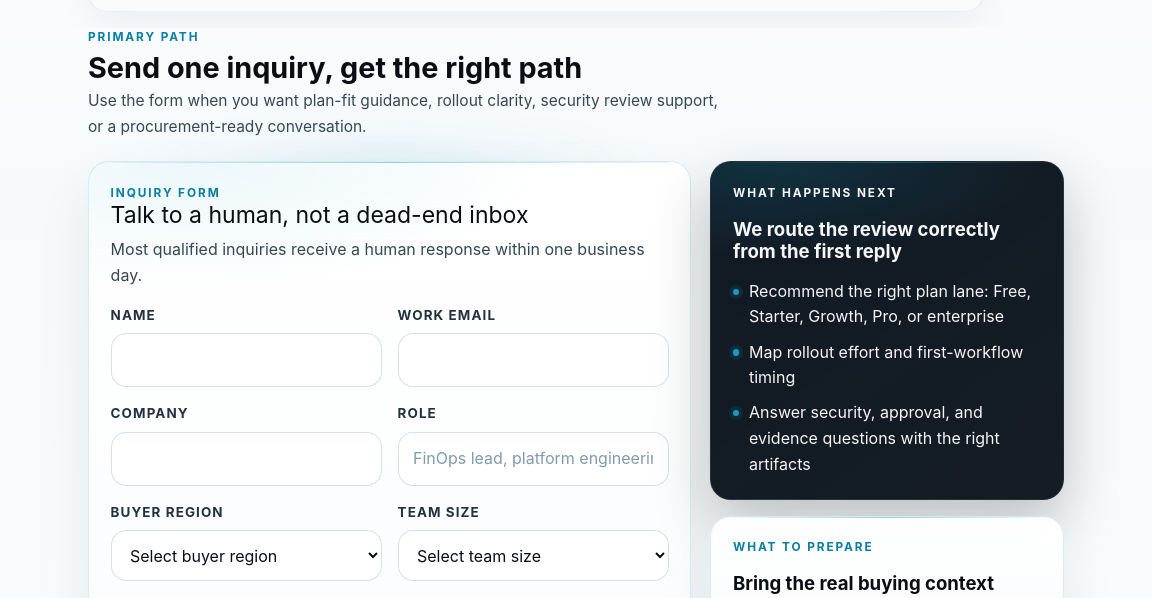
Test: talk-to-sales page › submits inquiries and shows inline success state
(page scrolled)
In the field labelled "Name": (246, 360) [111,333,382,387], type "Buyer One"
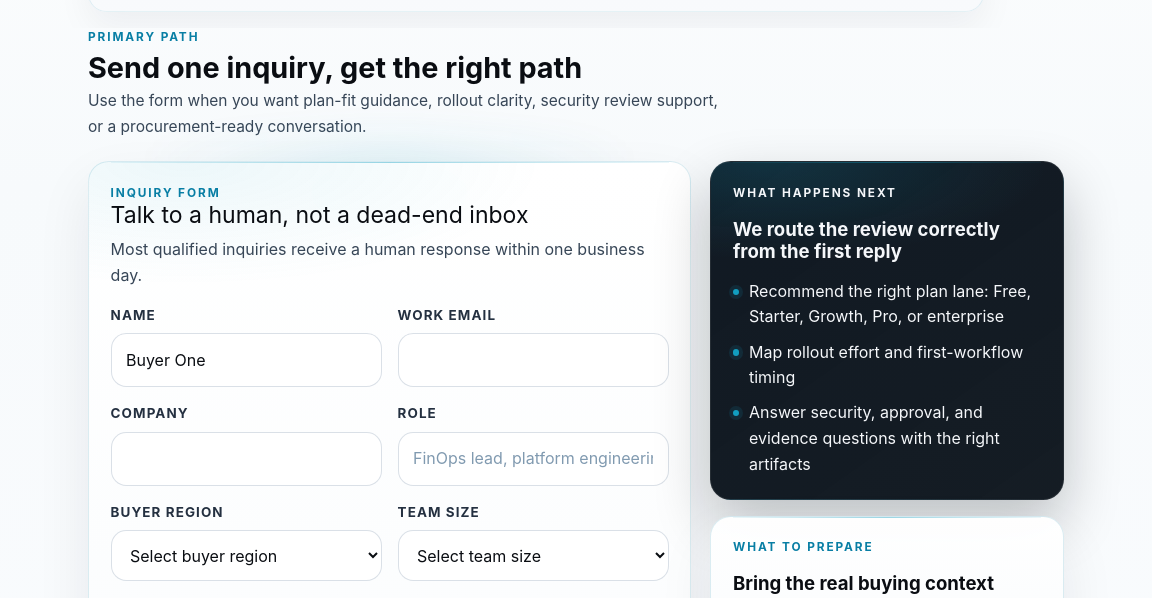
In the field labelled "Work email": (533, 360) [398,333,669,387], type "buyer@example.com"
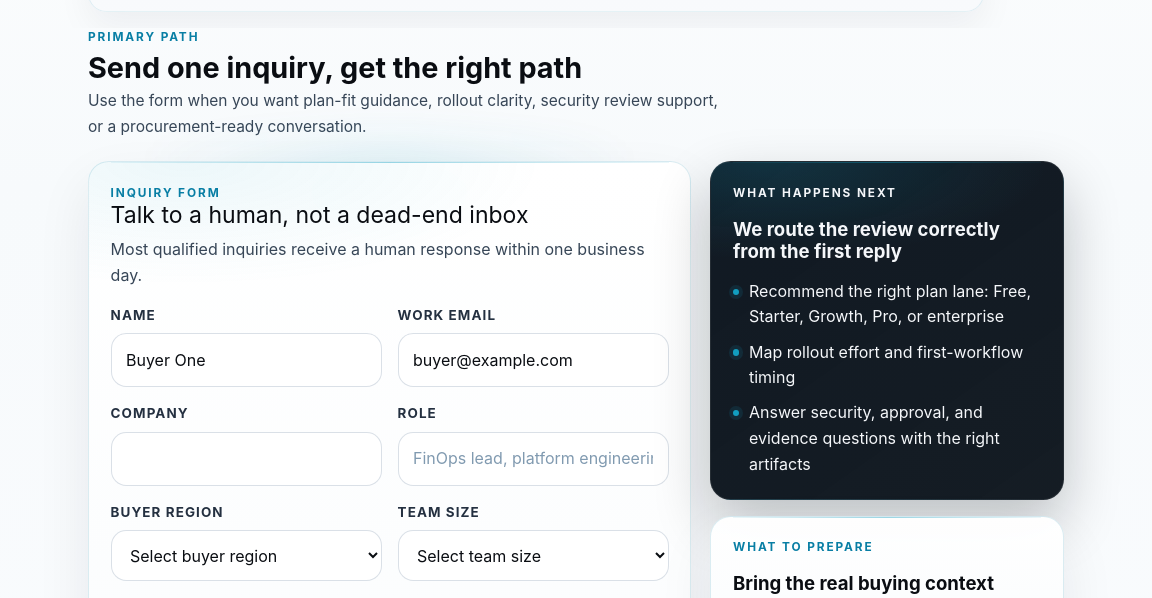
In the field labelled "Company": (246, 459) [111,432,382,486], type "Example Inc"
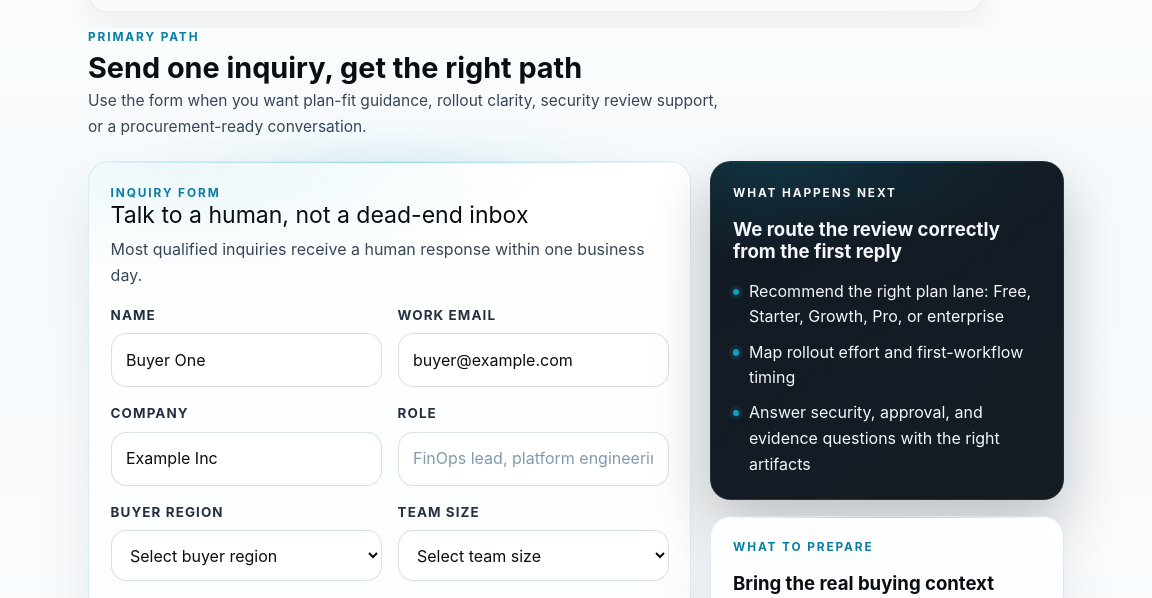
Select "United States" in the dropdown labelled "Buyer region": (246, 556) [111,530,382,581]
(page scrolled)
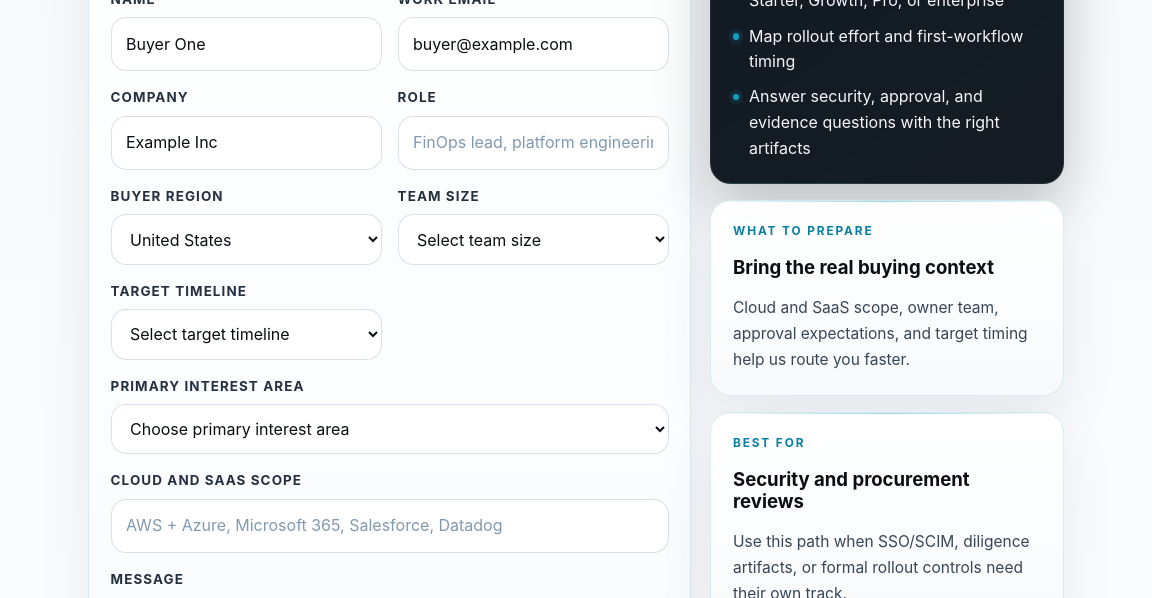
Submit the form with id "sales-inquiry-form"
(page scrolled)
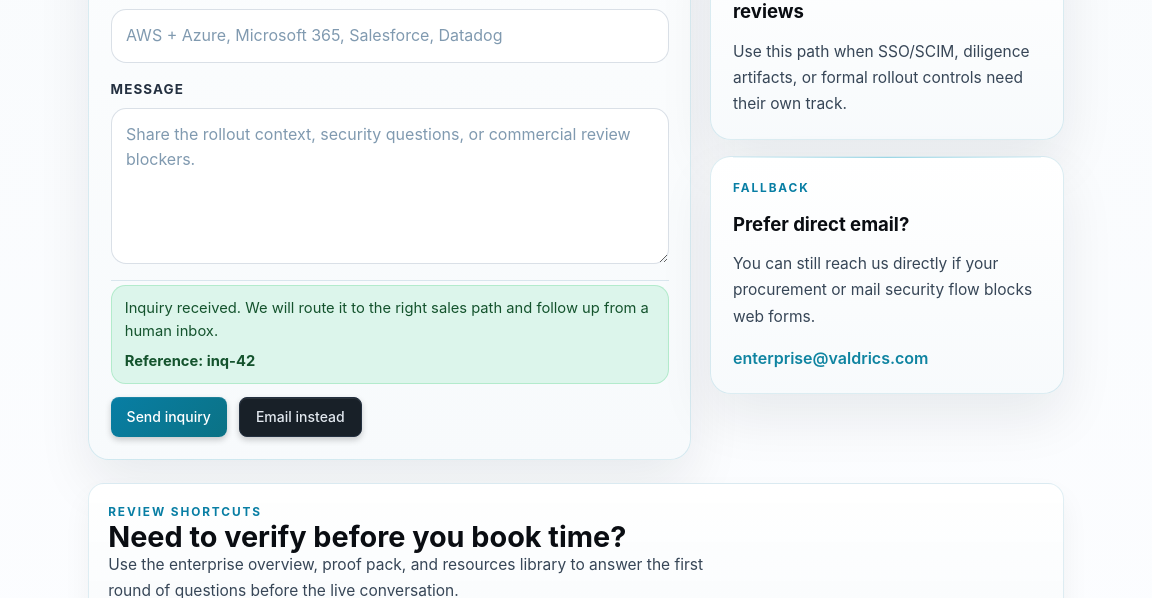
Result: the message shows "Inquiry received" at [125,299,649,340]
Result: the text "Reference: inq-42" is shown at [125,350,255,372]
